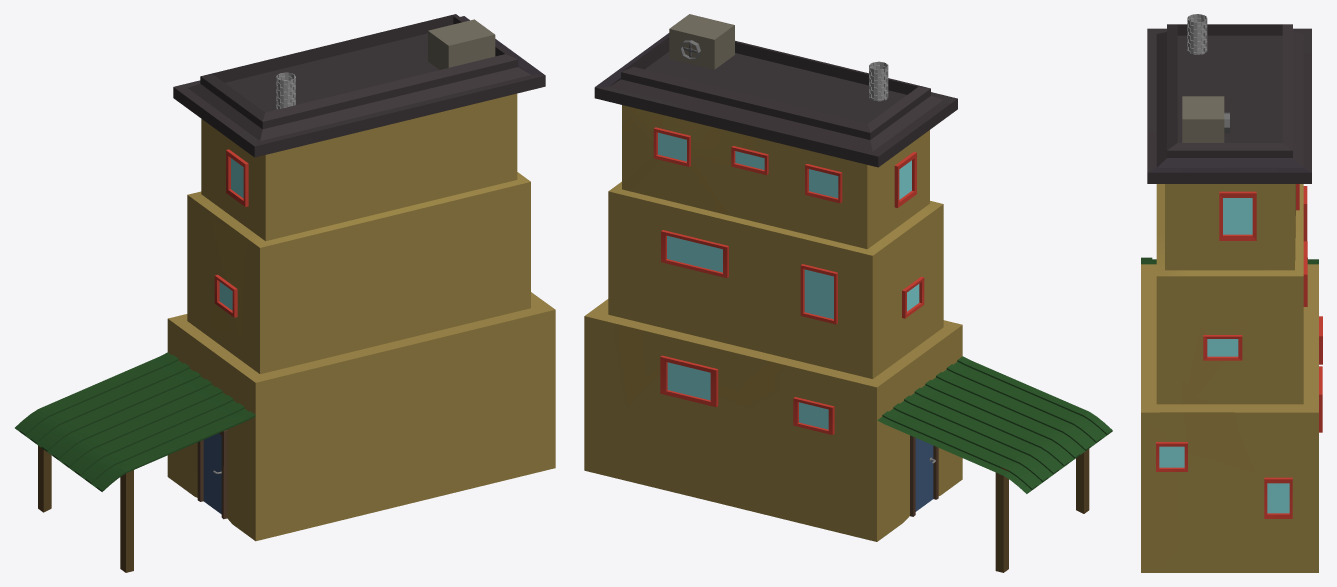
Rendered from Big_Favelahouse.fbx.
3 renders of one model, left to right at view 1: azimuth 30°, elevation 25°; view 2: azimuth 150°, elevation 25°; view 3: azimuth 270°, elevation 25°, orthographic. The views are drawn at different scales.
Parts seen in each view (by area): view 1: Big_Favelahouse.007; view 2: Big_Favelahouse.007; view 3: Big_Favelahouse.007.
Boxes of the visible parts, x1,y1,x2,y2 form: Big_Favelahouse.007: (15, 14, 555, 572); Big_Favelahouse.007: (584, 14, 1112, 572); Big_Favelahouse.007: (1141, 14, 1322, 572).
Size of the model in its own units: 2636 by 2371 by 897.
